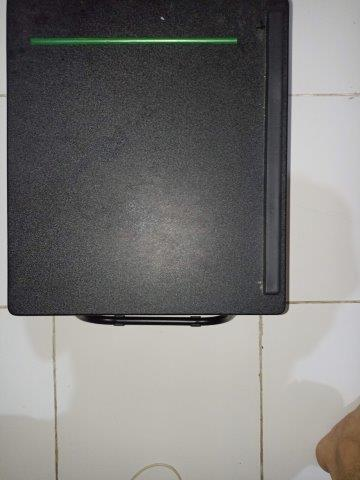sedotan: (30, 37, 237, 45)
